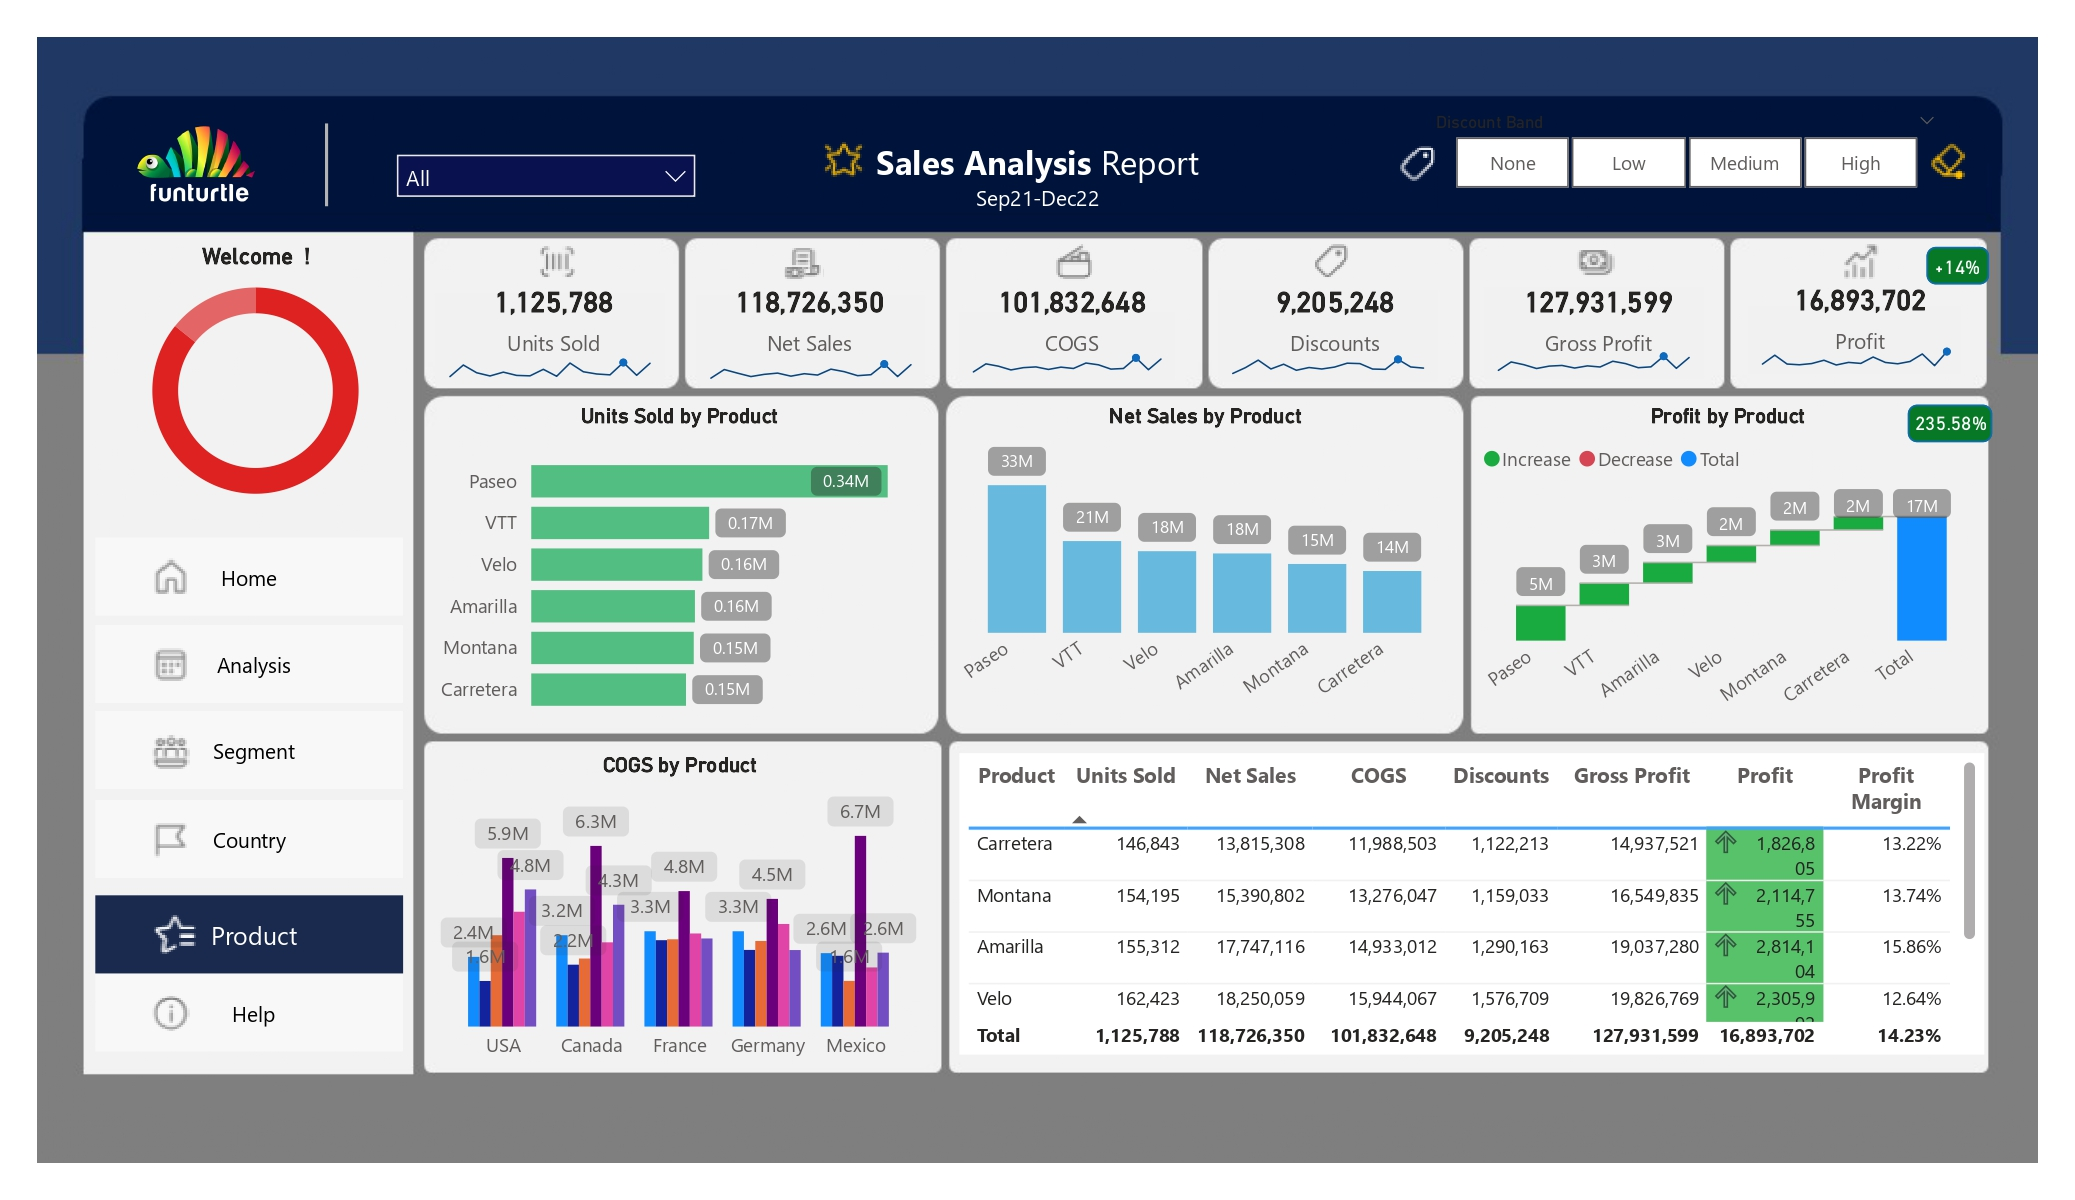

The dashboard page shown, as its layout file describes it:
{"tool":"powerbi","page":{"name":"Product","canvas":[1280,720],"ordinal":4},"visuals":[{"type":"shape","box":[1197.5,235.4,53.2,24.1],"z":0},{"type":"shape","box":[1208.9,134.2,40.5,24.1],"z":1000},{"type":"tableEx","fields":{"Values":["SparklineData(_Calculations.Profit_[Calender.MonthInCalendar])"]},"box":[1088.5,167.2,163,59.5],"z":2000},{"type":"tableEx","fields":{"Values":["SparklineData(_Calculations.Gross Profit_[Calender.MonthInCalendar])"]},"box":[920,154.7,161.4,78.6],"z":3000},{"type":"tableEx","fields":{"Values":["SparklineData(_Calculations.Discounts_[Calender.MonthInCalendar])"]},"box":[750,157.1,161.4,78.6],"z":4000},{"type":"tableEx","fields":{"Values":["SparklineData(_Calculations.Net Sales_[Calender.MonthInCalendar])"]},"box":[415.7,160.4,167.1,68.6],"z":5000},{"type":"tableEx","fields":{"Values":["SparklineData(_Calculations.COGS_[Calender.MonthInCalendar])"]},"box":[584.3,171.4,165.7,55.7],"z":6000},{"type":"tableEx","fields":{"Values":["SparklineData(_Calculations.Units Sold_[Calender.MonthInCalendar])"]},"box":[248.6,158.6,167.1,68.6],"z":7000},{"type":"image","box":[52.9,27.1,97.1,107.1],"z":8000},{"type":"textbox","box":[506.1,59.5,267.9,42.5],"z":9000},{"type":"textbox","box":[557,89.3,165.8,45.4],"z":10000},{"type":"slicer","fields":{"Values":["Managers.First Name"]},"box":[219.7,65.2,211.2,46.8],"z":11000},{"type":"shape","box":[150.2,55.3,69.4,52.4],"z":12000},{"type":"actionButton","box":[498.9,60.9,38.3,34],"z":13000},{"type":"slicer","fields":{"Values":["Sales.Discount Band"]},"box":[881.6,42.5,345.8,60.9],"z":14000},{"type":"actionButton","box":[866,63.8,38.3,34],"z":15000},{"type":"actionButton","box":[1206.1,62.4,38.3,34],"z":16000},{"type":"card","fields":{"Values":["_Calculations.Units Sold"]},"box":[254.3,150.4,152.9,55.7],"z":17000},{"type":"card","fields":{"Values":["_Calculations.Gross Profit"]},"box":[918.3,150.4,161.4,55.7],"z":18000},{"type":"card","fields":{"Values":["_Calculations.Discounts"]},"box":[749.4,150.4,162.9,55.7],"z":19000},{"type":"card","fields":{"Values":["_Calculations.COGS"]},"box":[580.6,150.4,162.9,55.7],"z":20000},{"type":"card","fields":{"Values":["_Calculations.Profit"]},"box":[1085.7,149.4,161.4,55.7],"z":21000},{"type":"card","fields":{"Values":["_Calculations.Net Sales"]},"box":[413.1,150.4,161.4,55.7],"z":22000},{"type":"clusteredBarChart","title":"Units Sold by Product","fields":{"Category":["Sales.Product"],"Y":["_Calculations.Units Sold"]},"box":[248,235.3,326,208.3],"z":23000},{"type":"clusteredColumnChart","title":"Net Sales by Product","fields":{"Category":["Sales.Product"],"Y":["_Calculations.Net Sales"]},"box":[583.9,235.3,327.4,208.3],"z":24000},{"type":"waterfallChart","title":"Profit by Product","fields":{"Category":["Sales.Product"],"Y":["_Calculations.Profit"]},"box":[919.8,235.3,324.6,208.3],"z":25000},{"type":"clusteredColumnChart","title":"COGS by Product","fields":{"Category":["Sales.Country"],"Y":["_Calculations.COGS"],"Series":["Sales.Product"]},"box":[248,457.8,326,205.5],"z":26000},{"type":"tableEx","fields":{"Values":["Sales.Product","_Calculations.Units Sold","_Calculations.Net Sales","_Calculations.COGS","_Calculations.Discounts","_Calculations.Gross Profit","_Calculations.Profit","_Calculations.Profit Margin"]},"box":[589.6,457.8,656.2,192.8],"z":27000},{"type":"actionButton","box":[315.7,127.1,38.6,32.9],"z":28000},{"type":"actionButton","box":[474.3,127.1,38.6,32.9],"z":29000},{"type":"actionButton","box":[647.1,127.1,38.6,32.9],"z":30000},{"type":"actionButton","box":[811.4,127.1,38.6,32.9],"z":31000},{"type":"actionButton","box":[981.4,127.1,38.6,32.9],"z":32000},{"type":"actionButton","box":[1150,127.1,38.6,32.9],"z":33000},{"type":"donutChart","fields":{"Y":["_Calculations.Cost to Sales%","_Calculations.Profit Margin"]},"box":[52.4,137.5,174.3,177.2],"z":34000},{"type":"card","fields":{"Values":["_Calculations.Greetings"]},"box":[48.2,107.7,182.8,66.6],"z":35000},{"type":"card","fields":{"Values":["_Calculations.Profit Margin Format"]},"box":[1206.3,134.2,44.3,25.3],"z":36000},{"type":"card","fields":{"Values":["_Calculations.Profit YoY%"]},"box":[1192.4,234.2,64.6,25.3],"z":37000},{"type":"actionButton","box":[37.1,320,197.1,50],"z":38000},{"type":"actionButton","box":[37.1,375.7,197.1,50],"z":39000},{"type":"actionButton","box":[37.1,431.4,197.1,50],"z":40000},{"type":"actionButton","box":[37.3,487.8,197.1,50],"z":41000},{"type":"actionButton","box":[37.3,599.2,197.1,50],"z":42000},{"type":"actionButton","box":[37.1,548.6,197.1,50],"z":43000}]}

Visuals, with their boxes on the page's 1280x720 design canvas (x1, y1, x2, y2). These are canvas units, not pixel positions in the 2075x1200 screenshot, which may show the page scaled, cropped or inside an application window:
shape: locate(1198, 235, 1251, 260)
shape: locate(1209, 134, 1249, 158)
tableEx - SparklineData(_Calculations.Profit_[Calender.MonthInCalendar]): locate(1088, 167, 1252, 227)
tableEx - SparklineData(_Calculations.Gross Profit_[Calender.MonthInCalendar]): locate(920, 155, 1081, 233)
tableEx - SparklineData(_Calculations.Discounts_[Calender.MonthInCalendar]): locate(750, 157, 911, 236)
tableEx - SparklineData(_Calculations.Net Sales_[Calender.MonthInCalendar]): locate(416, 160, 583, 229)
tableEx - SparklineData(_Calculations.COGS_[Calender.MonthInCalendar]): locate(584, 171, 750, 227)
tableEx - SparklineData(_Calculations.Units Sold_[Calender.MonthInCalendar]): locate(249, 159, 416, 227)
image: locate(53, 27, 150, 134)
textbox: locate(506, 60, 774, 102)
textbox: locate(557, 89, 723, 135)
slicer - Managers.First Name: locate(220, 65, 431, 112)
shape: locate(150, 55, 220, 108)
actionButton: locate(499, 61, 537, 95)
slicer - Sales.Discount Band: locate(882, 42, 1227, 103)
actionButton: locate(866, 64, 904, 98)
actionButton: locate(1206, 62, 1244, 96)
card - _Calculations.Units Sold: locate(254, 150, 407, 206)
card - _Calculations.Gross Profit: locate(918, 150, 1080, 206)
card - _Calculations.Discounts: locate(749, 150, 912, 206)
card - _Calculations.COGS: locate(581, 150, 744, 206)
card - _Calculations.Profit: locate(1086, 149, 1247, 205)
card - _Calculations.Net Sales: locate(413, 150, 574, 206)
"Units Sold by Product" clusteredBarChart: locate(248, 235, 574, 444)
"Net Sales by Product" clusteredColumnChart: locate(584, 235, 911, 444)
"Profit by Product" waterfallChart: locate(920, 235, 1244, 444)
"COGS by Product" clusteredColumnChart: locate(248, 458, 574, 663)
tableEx - Sales.Product x _Calculations.Units Sold: locate(590, 458, 1246, 651)
actionButton: locate(316, 127, 354, 160)
actionButton: locate(474, 127, 513, 160)
actionButton: locate(647, 127, 686, 160)
actionButton: locate(811, 127, 850, 160)
actionButton: locate(981, 127, 1020, 160)
actionButton: locate(1150, 127, 1189, 160)
donutChart - _Calculations.Cost to Sales% x _Calculations.Profit Margin: locate(52, 138, 227, 315)
card - _Calculations.Greetings: locate(48, 108, 231, 174)
card - _Calculations.Profit Margin Format: locate(1206, 134, 1251, 160)
card - _Calculations.Profit YoY%: locate(1192, 234, 1257, 260)
actionButton: locate(37, 320, 234, 370)
actionButton: locate(37, 376, 234, 426)
actionButton: locate(37, 431, 234, 481)
actionButton: locate(37, 488, 234, 538)
actionButton: locate(37, 599, 234, 649)
actionButton: locate(37, 549, 234, 599)
